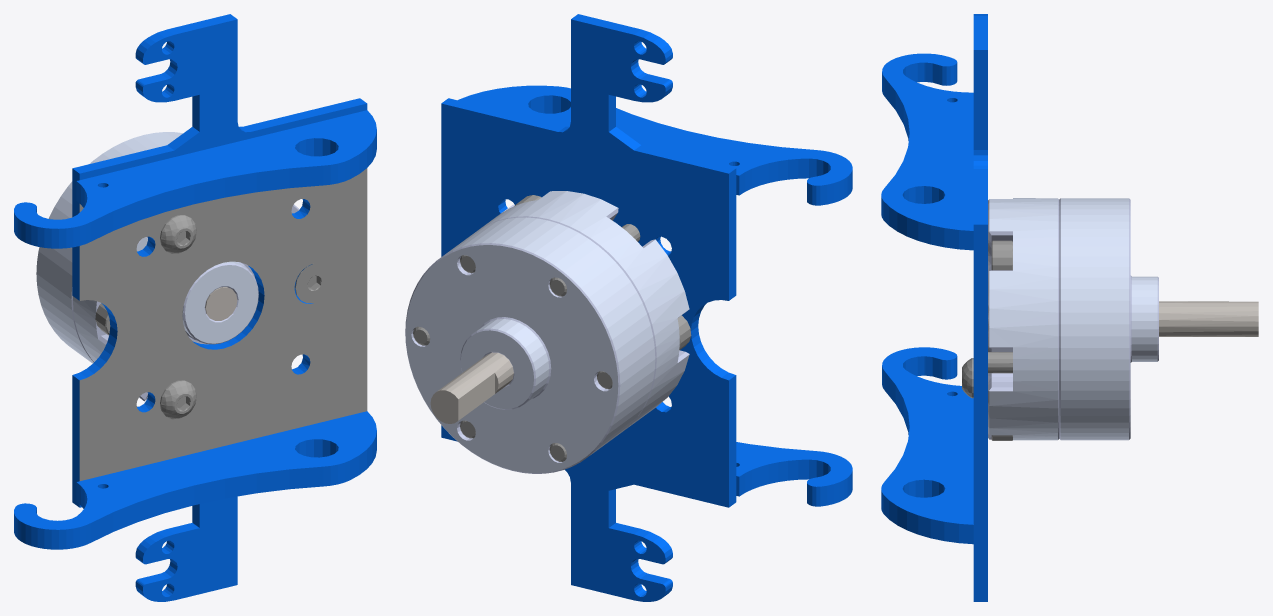
The model's file is gripper_mount_visuals_Mesh.obj.
3 renders of one model, left to right at view 1: azimuth 30°, elevation 25°; view 2: azimuth 150°, elevation 25°; view 3: azimuth 270°, elevation 25°, orthographic. The views are drawn at different scales.
Bounding box in the file's own units: 0.059 × 0.0855 × 0.053.
